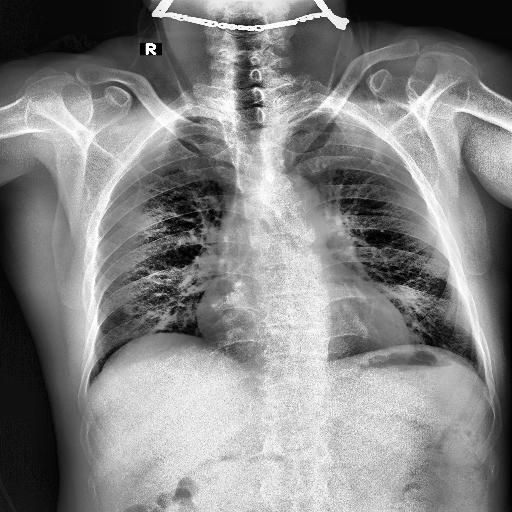0- Aortic enlargement: (250, 174, 324, 232), (273, 175, 322, 207)
11- Pleural thickening: (288, 108, 324, 122)
3- Cardiomegaly: (196, 290, 415, 352), (196, 296, 412, 350), (192, 297, 412, 349)
